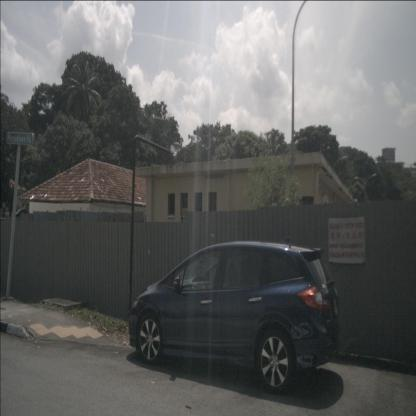vehicle-car: (129, 236, 340, 393)
